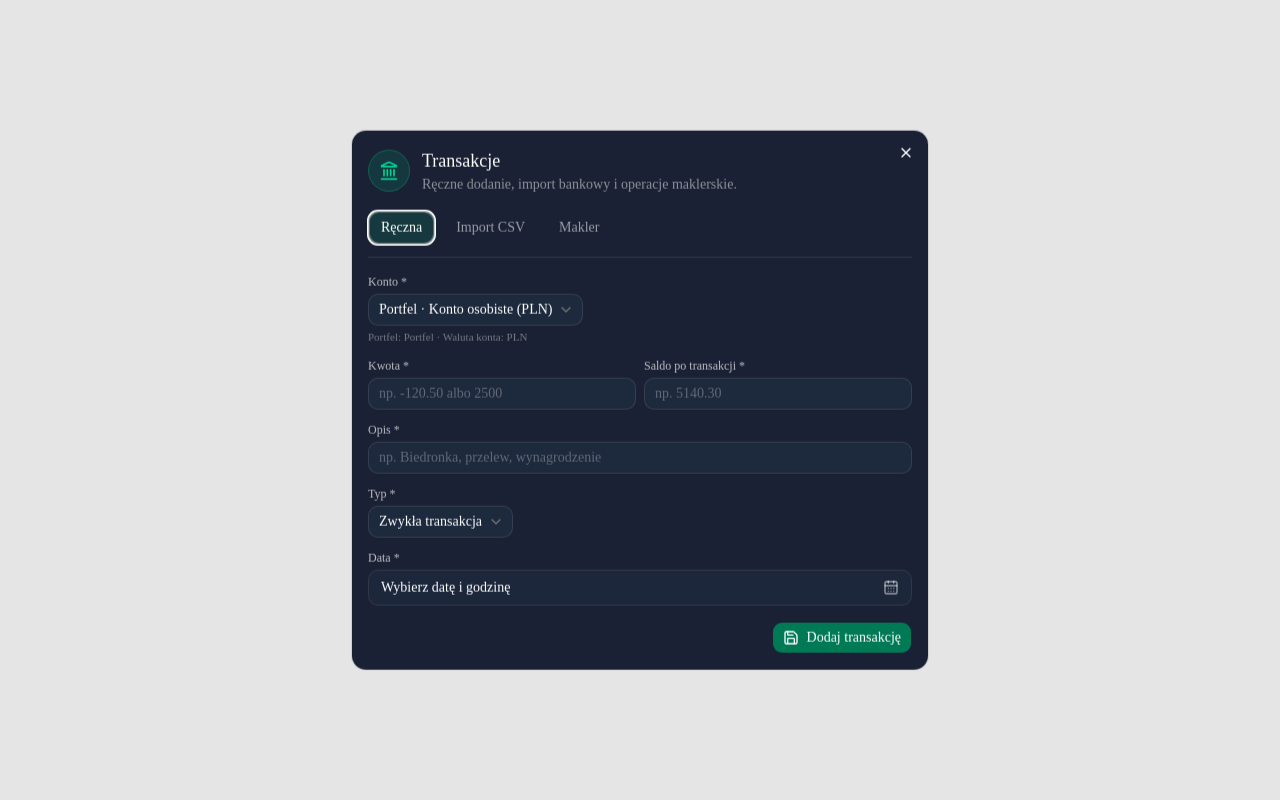
Test: TransactionsDialog – manual form › shows validation errors when required fields are empty on submit
// Submit without filling any field
What coordinates should you click on to do the following:
click the button "Dodaj transakcję"
I would click on:
 (842, 637)
Its box is [772,621,912,653].
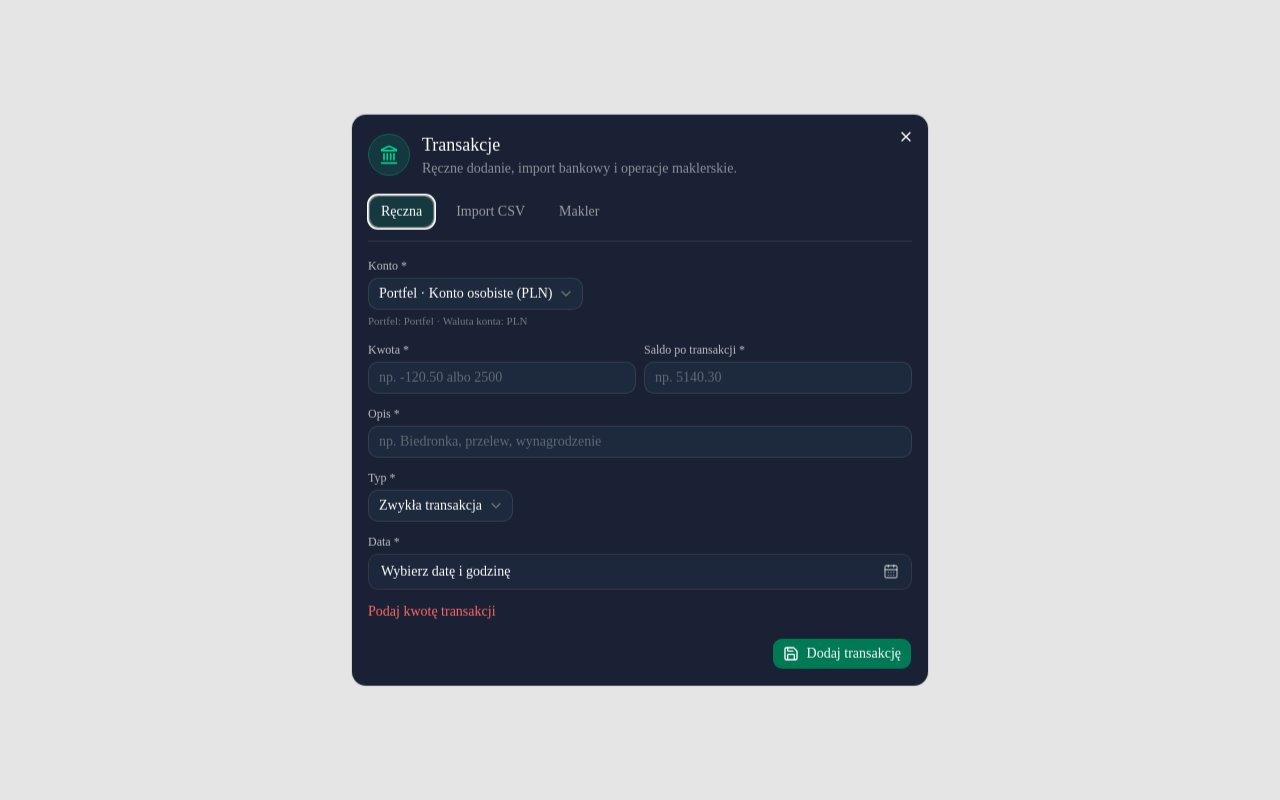
expect the text "Podaj kwotę transakcji" is shown: met, box [368,603,496,618]
